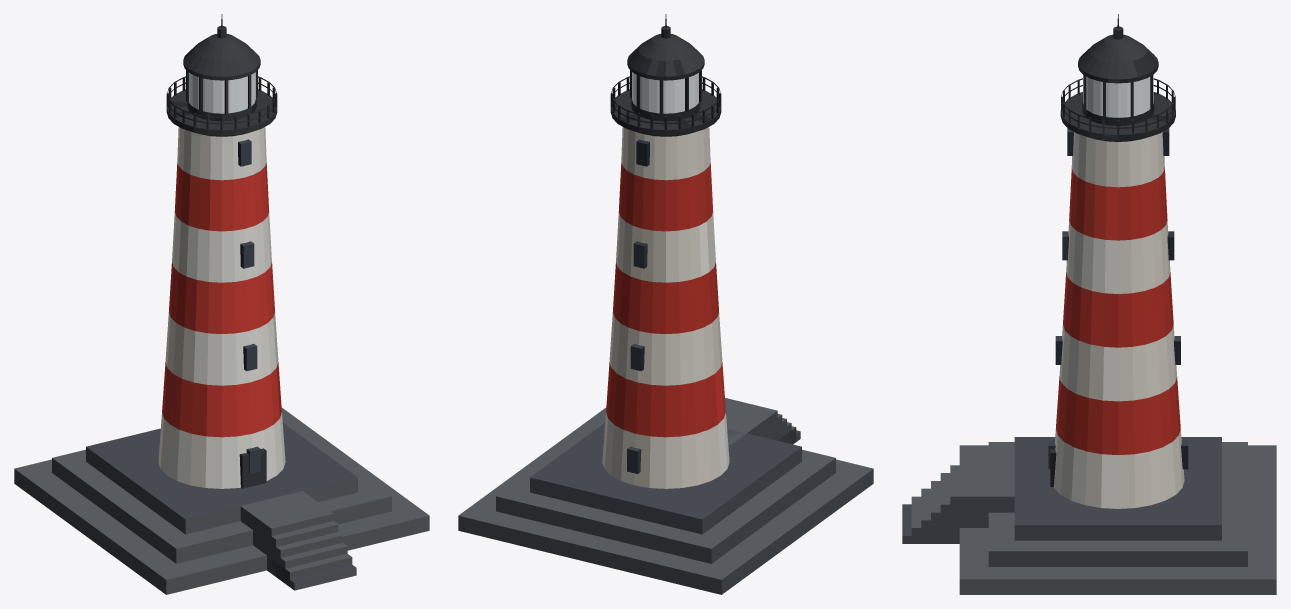
The model's file is landmark.glb.
3 views of the same model, side by side, from view 1: azimuth 30°, elevation 25°; view 2: azimuth 150°, elevation 25°; view 3: azimuth 270°, elevation 25° (orthographic). The views are drawn at different scales.
Parts seen in each view (by area): view 1: lighthouse; view 2: lighthouse; view 3: lighthouse.
Part boxes in pixels (x1,y1,x2,y2): lighthouse: (14,14,429,594); lighthouse: (458,14,873,594); lighthouse: (902,14,1276,594).
Bounding box in the file's own units: 22 × 39.35 × 26.
1 material, 1 textured.
